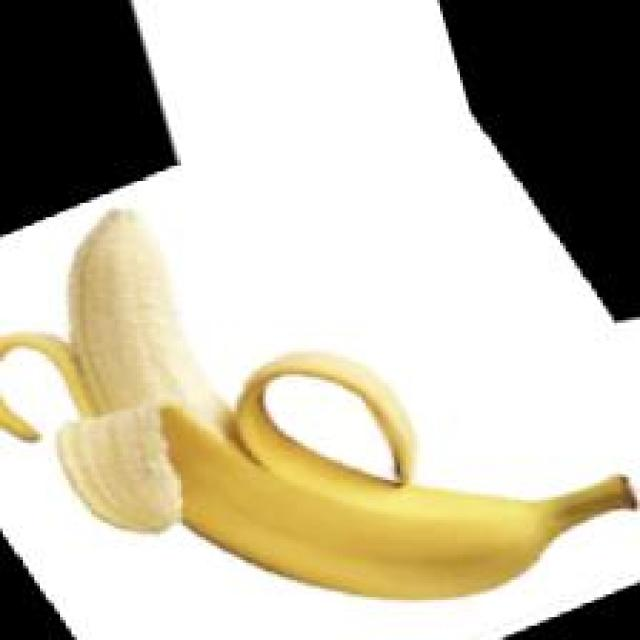banana: (67, 209, 640, 619)
